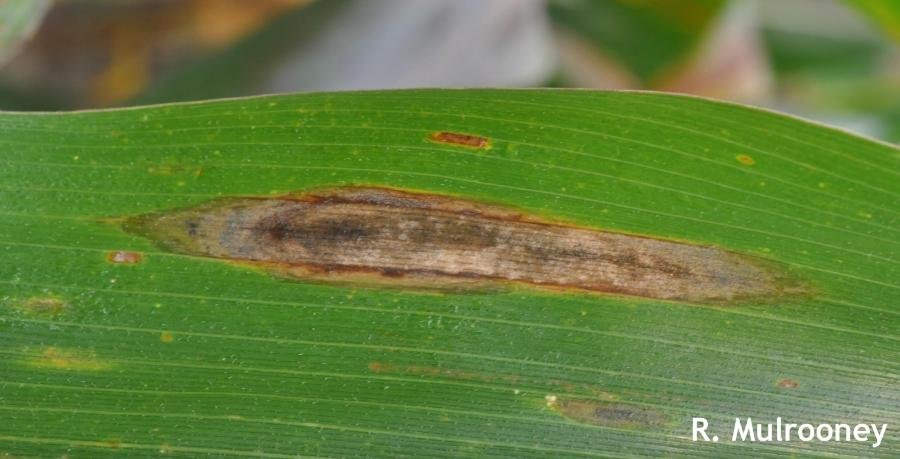Corn leaf blight: (2, 100, 900, 403)
